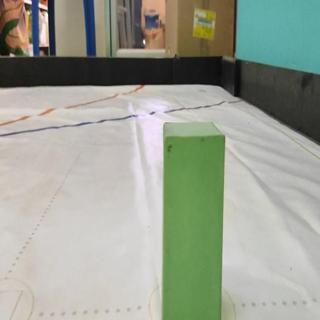greenbox: (161, 120, 225, 320)
